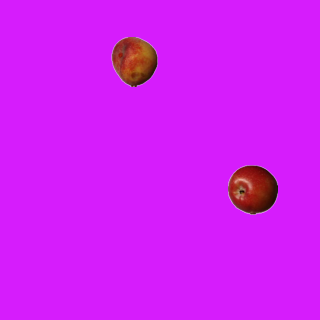Apple Braeburn: (227, 164, 277, 214)
Peach: (109, 36, 159, 86)
